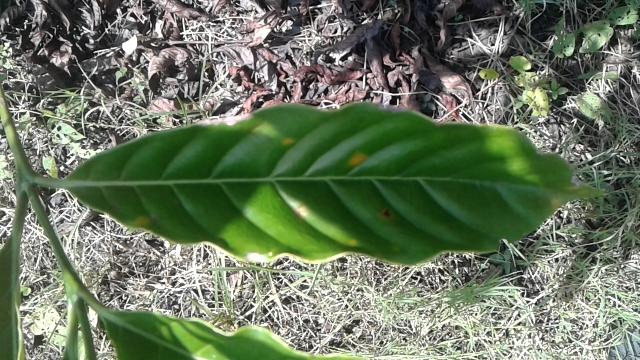rust_level_1: (64, 100, 619, 267)
